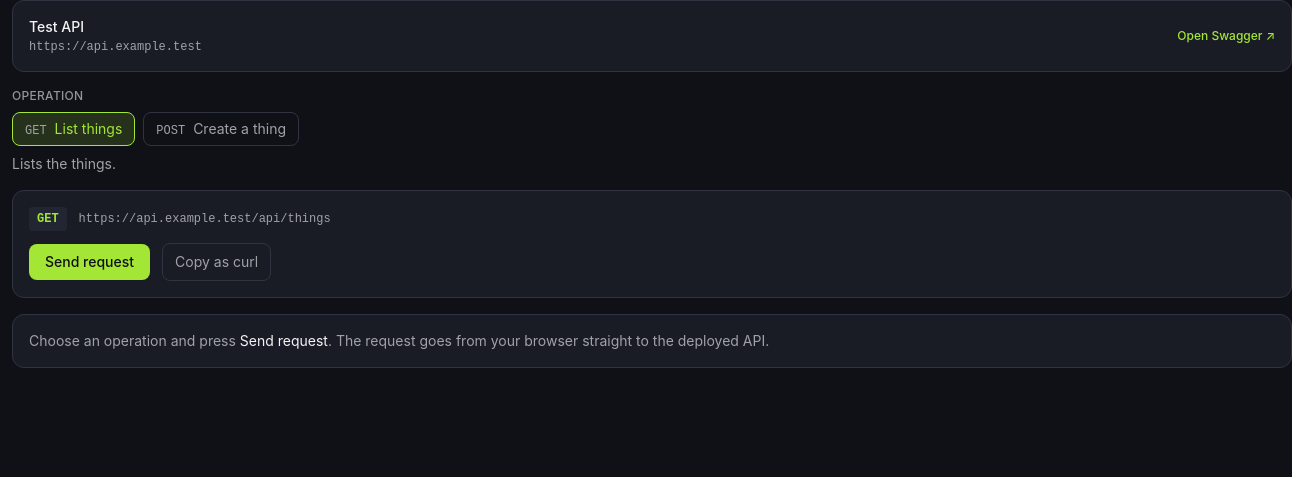
Test: ApiTester › explains a network failure as a failure to reach the service
What coordinates should you click on to do the following:
click the button "Send request"
I would click on:
 (90, 262)
Its box is [29,244,150,280].
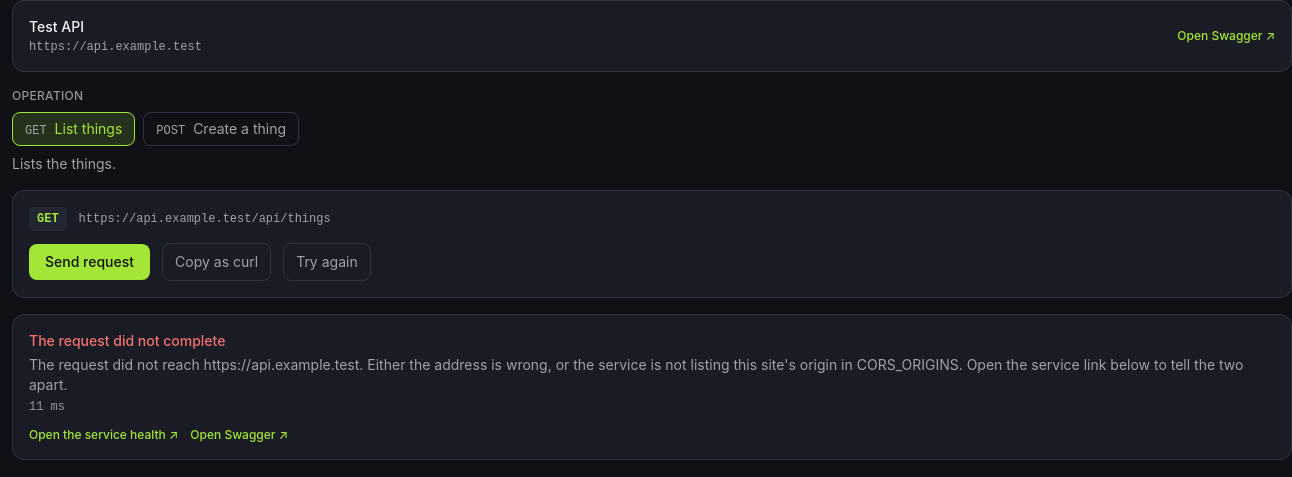
Expected: the text "CORS" is shown, [29,356,1243,393]
